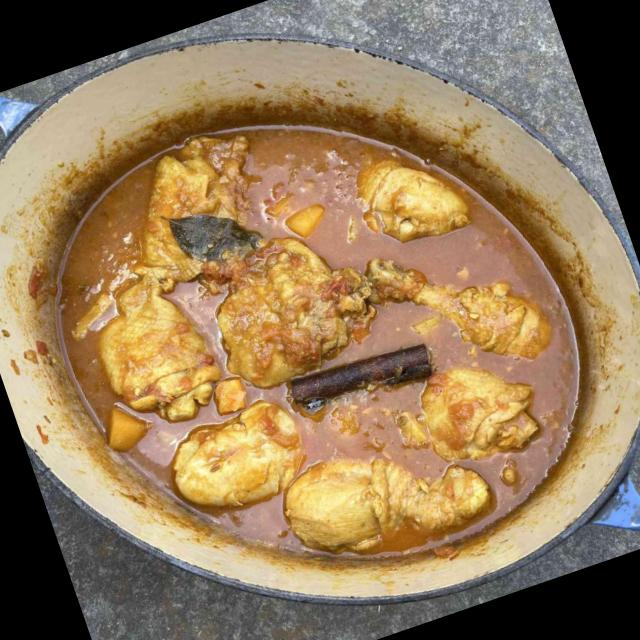chicken: (11, 27, 615, 630)
